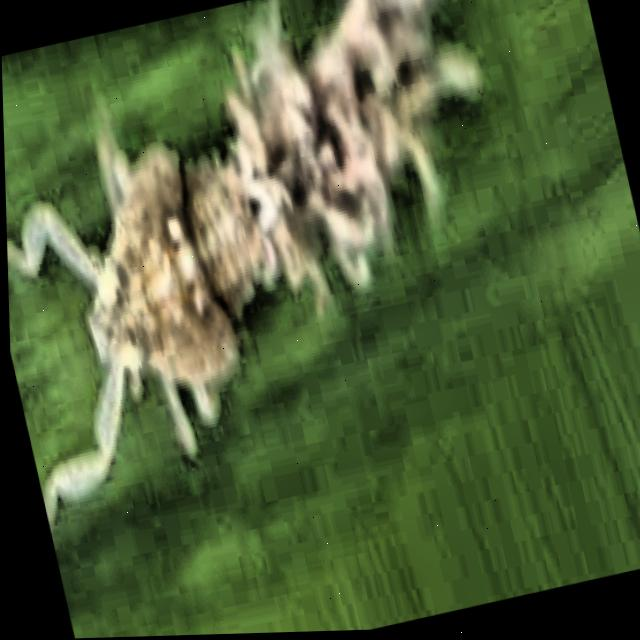Pyrilla-perpusilla: (0, 0, 554, 542)
